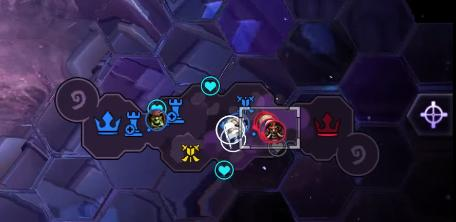blue nexus: (93, 109, 122, 135)
blue player: (144, 107, 171, 133)
blue tower: (125, 110, 144, 136), (167, 98, 186, 124)
red nexus: (313, 111, 341, 136)
red player: (252, 110, 280, 134), (260, 119, 285, 143)
